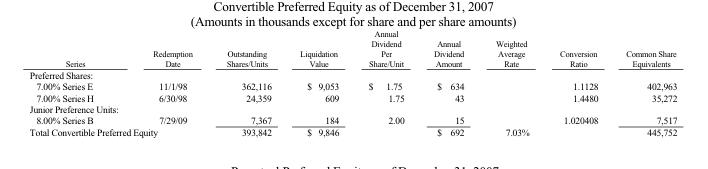table: (28, 28, 676, 137)
table column: (28, 28, 154, 137), (208, 28, 285, 137), (285, 28, 353, 137), (543, 28, 611, 137), (353, 28, 418, 137), (611, 28, 676, 137), (479, 28, 543, 137), (418, 28, 479, 137), (154, 28, 208, 137)
table column header: (28, 28, 676, 68)
table projected row header: (28, 68, 676, 80), (28, 103, 676, 114)
table row: (28, 28, 676, 68), (28, 68, 676, 80), (28, 91, 676, 103), (28, 114, 676, 126), (28, 80, 676, 91), (28, 103, 676, 114), (28, 126, 676, 137)
